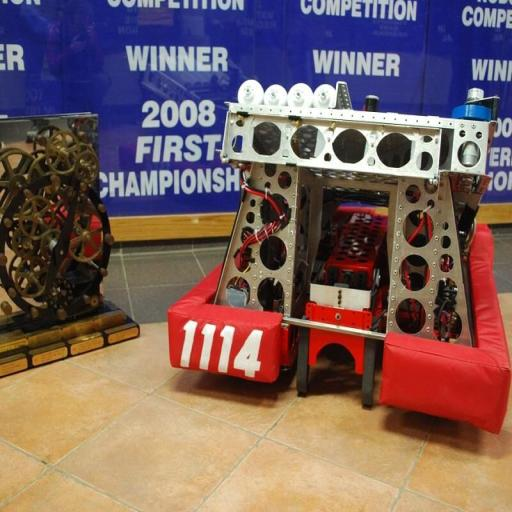robot: (168, 73, 512, 446)
